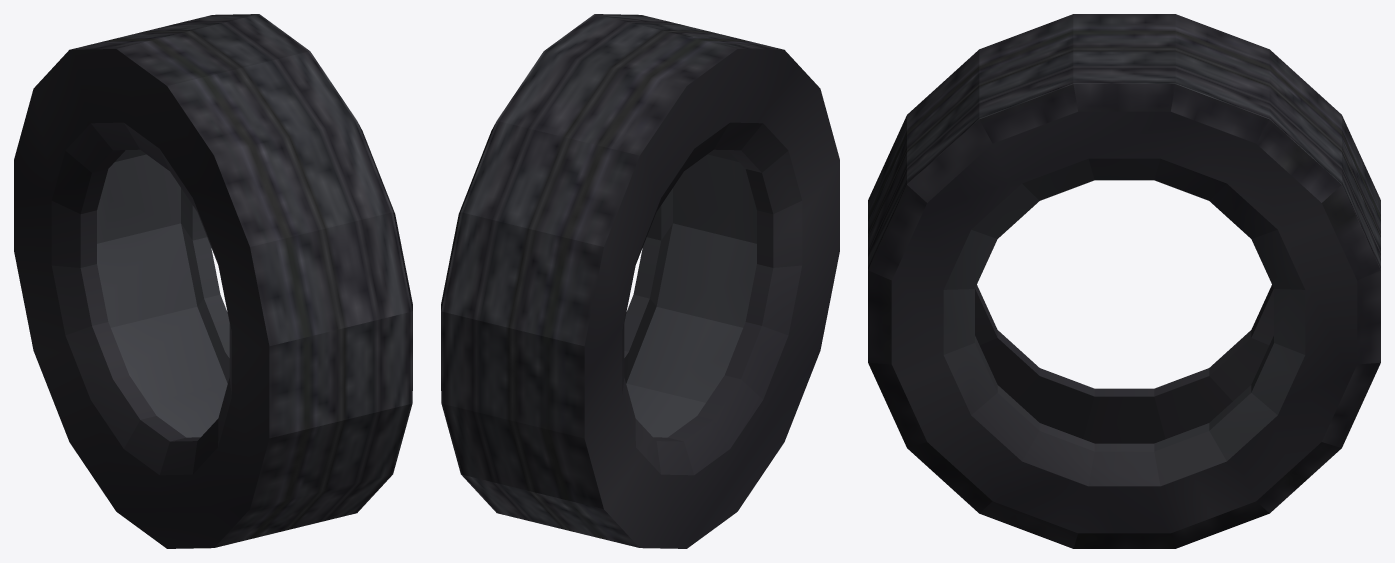
File: LowPolyTire.fbx
The picture shows the model from 3 angles, left to right: view 1: azimuth 30°, elevation 25°; view 2: azimuth 150°, elevation 25°; view 3: azimuth 270°, elevation 25°; orthographic projection.
Parts seen in each view (by area): view 1: Cylinder; view 2: Cylinder; view 3: Cylinder.
Part boxes in pixels (box(x1,y1,x2,y2)): Cylinder: box(14, 14, 412, 548); Cylinder: box(441, 14, 839, 548); Cylinder: box(868, 14, 1380, 548).
Bounding box in the file's own units: 125 × 357 × 357.
